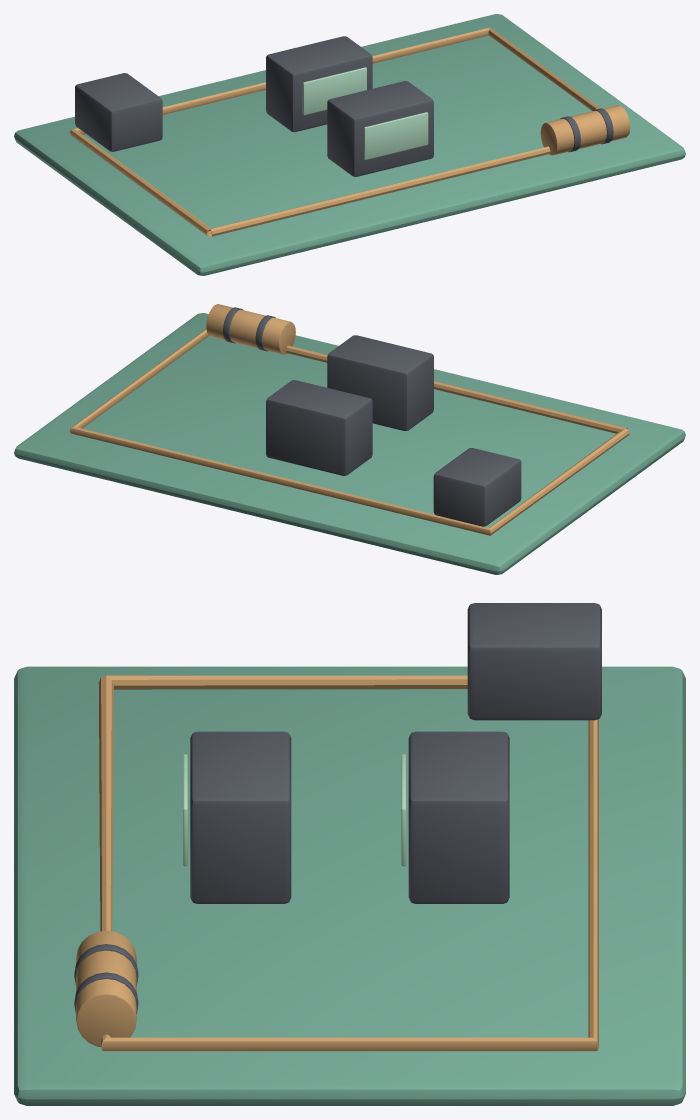
File: ohm_apparatus.glb
3 renders of one model, top to bottom at view 1: azimuth 30°, elevation 25°; view 2: azimuth 150°, elevation 25°; view 3: azimuth 270°, elevation 25°, orthographic. The views are drawn at different scales.
Parts seen in each view (by area): view 1: Circuit_Board, Wire_Loop, Voltmeter_Box, Meter_Box, Battery, Resistor_Body, Voltmeter_Screen, Meter_Screen; view 2: Circuit_Board, Meter_Box, Wire_Loop, Voltmeter_Box, Battery, Resistor_Body; view 3: Circuit_Board, Wire_Loop, Meter_Box, Voltmeter_Box, Battery, Resistor_Body.
Boxes of the visible parts, <box> form: Circuit_Board: <box>14,14,685,275</box>; Wire_Loop: <box>69,27,629,236</box>; Voltmeter_Box: <box>327,81,433,176</box>; Meter_Box: <box>266,36,372,132</box>; Battery: <box>75,73,162,151</box>; Resistor_Body: <box>540,105,630,155</box>; Voltmeter_Screen: <box>364,112,428,159</box>; Meter_Screen: <box>302,67,366,115</box>; Circuit_Board: <box>14,313,685,574</box>; Meter_Box: <box>266,380,372,475</box>; Wire_Loop: <box>70,329,629,535</box>; Voltmeter_Box: <box>327,335,433,431</box>; Battery: <box>433,448,521,526</box>; Resistor_Body: <box>206,304,295,354</box>; Circuit_Board: <box>14,666,685,1105</box>; Wire_Loop: <box>98,675,598,1051</box>; Meter_Box: <box>408,731,509,903</box>; Voltmeter_Box: <box>190,731,291,903</box>; Battery: <box>467,603,601,720</box>; Resistor_Body: <box>76,930,136,1046</box>.
Bounding box in the file's own units: 6 × 0.875 × 4.
